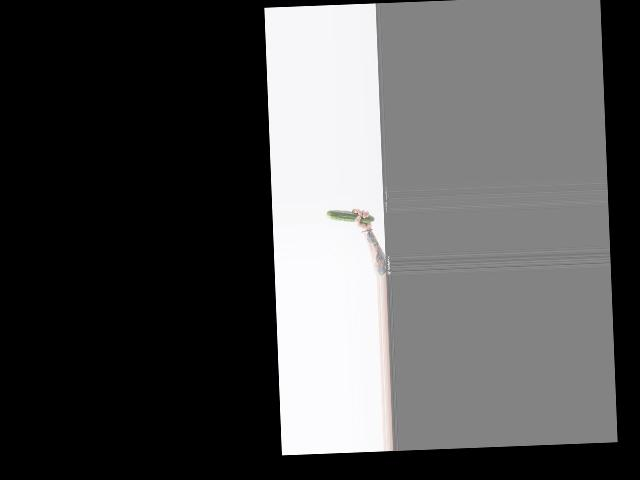cucumber: (325, 208, 374, 224)
